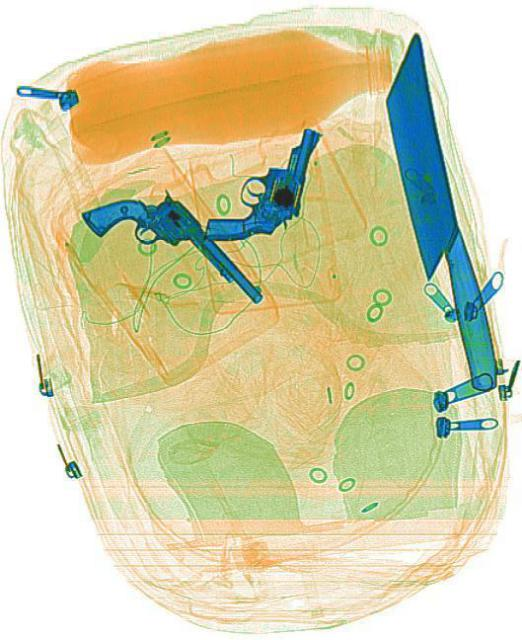Gun: (72, 159, 276, 305), (201, 109, 345, 278)
Knife: (362, 31, 509, 399)
